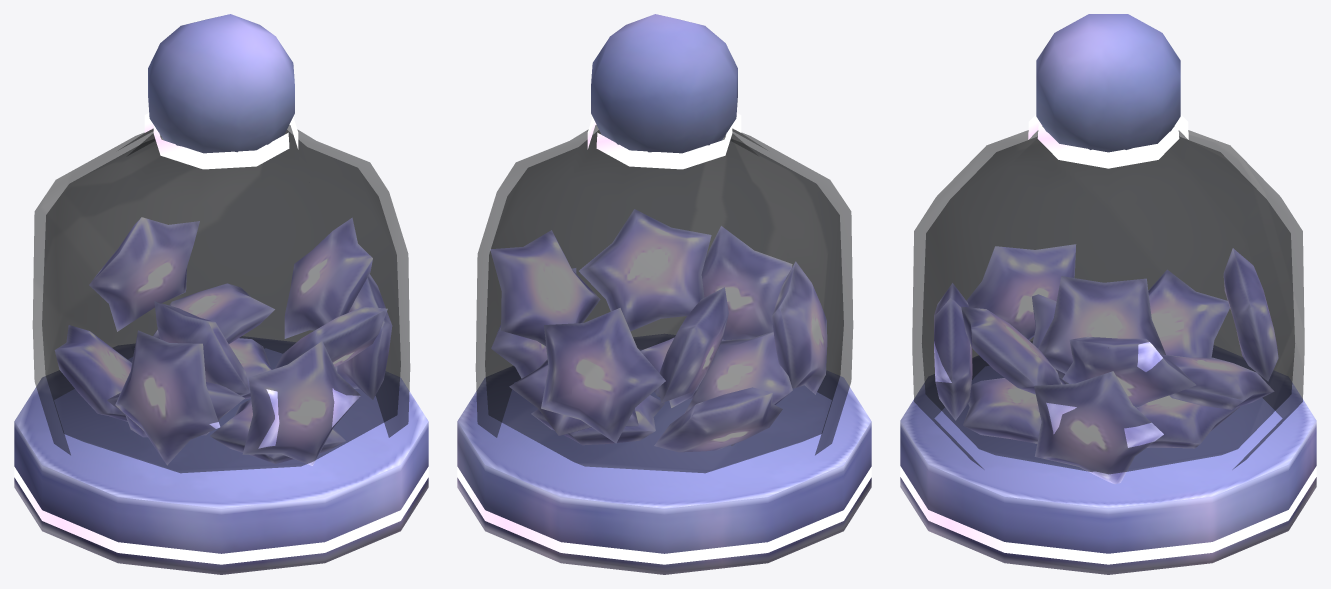
The model's file is obj_feed.gltf.
3 views of the same model, side by side, from view 1: azimuth 30°, elevation 25°; view 2: azimuth 150°, elevation 25°; view 3: azimuth 270°, elevation 25° (orthographic).
Parts seen in each view (by area): view 1: obj_feed; view 2: obj_feed; view 3: obj_feed.
Boxes of the visible parts, <box> form: obj_feed: <box>14,14,428,574</box>; obj_feed: <box>457,14,871,574</box>; obj_feed: <box>900,14,1316,574</box>.
Size of what is drawn, in the model's own units: 0.5961 by 0.733 by 0.5961.
3 materials, 2 textured.
